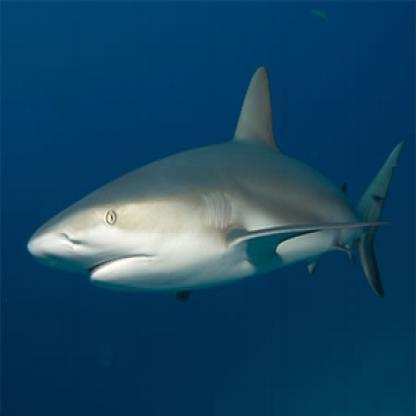Bio: (21, 49, 410, 312)
